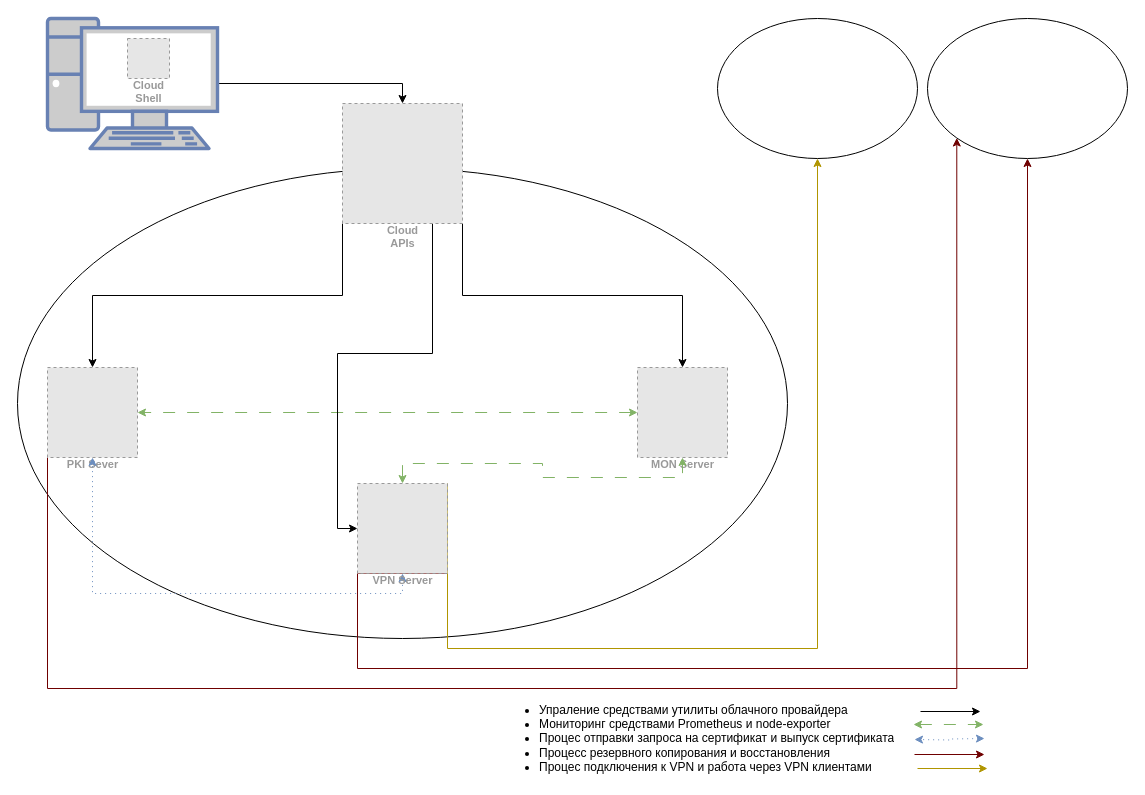
Some shapes in this 1145 by 795 pixel diagram are drawn without their labels. Grey dashed boxes stand in for pictures. The box of each missing label's shape, as (x1, y1, x2, y2) in pixels:
Backup: (926, 18, 1128, 158)
Clients: (716, 18, 918, 158)
